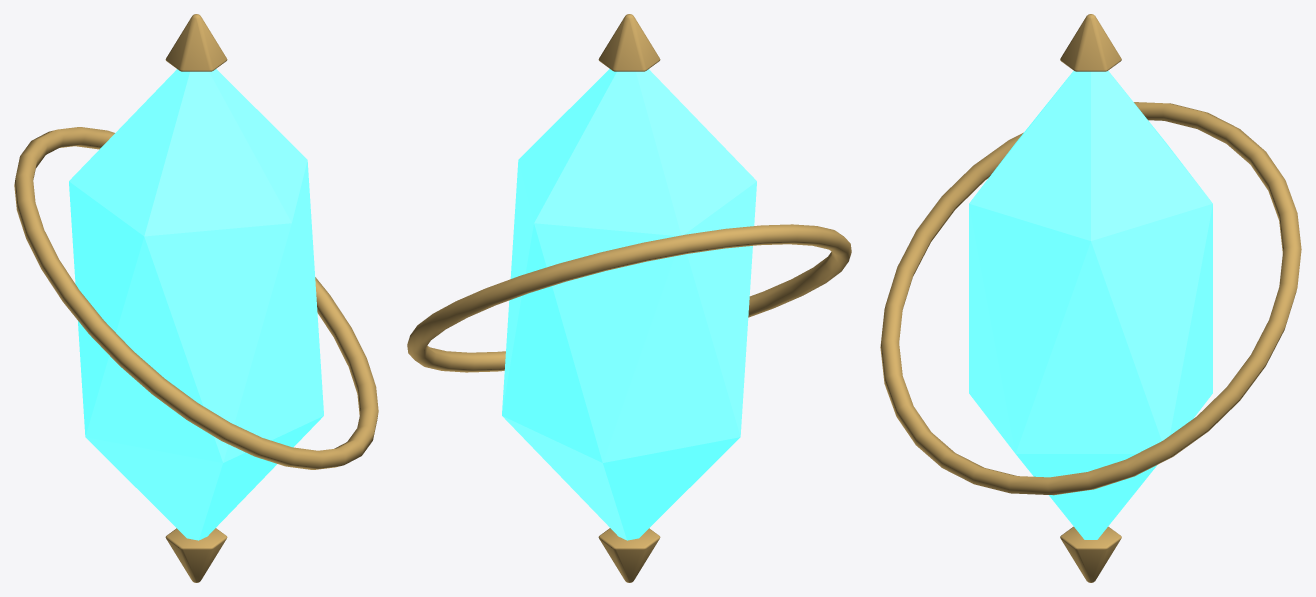
The model's file is glyph.glb.
3 renders of one model, left to right at view 1: azimuth 30°, elevation 25°; view 2: azimuth 150°, elevation 25°; view 3: azimuth 270°, elevation 25°, orthographic.
Visible parts, largest first — view 1: glyph; view 2: glyph; view 3: glyph.
Part boxes in pixels (box(x1,y1,x2,y2)): glyph: box(14, 14, 378, 582); glyph: box(407, 14, 851, 582); glyph: box(880, 14, 1301, 582).
Bounding box in the file's own units: 0.55 × 0.86 × 0.5784.
